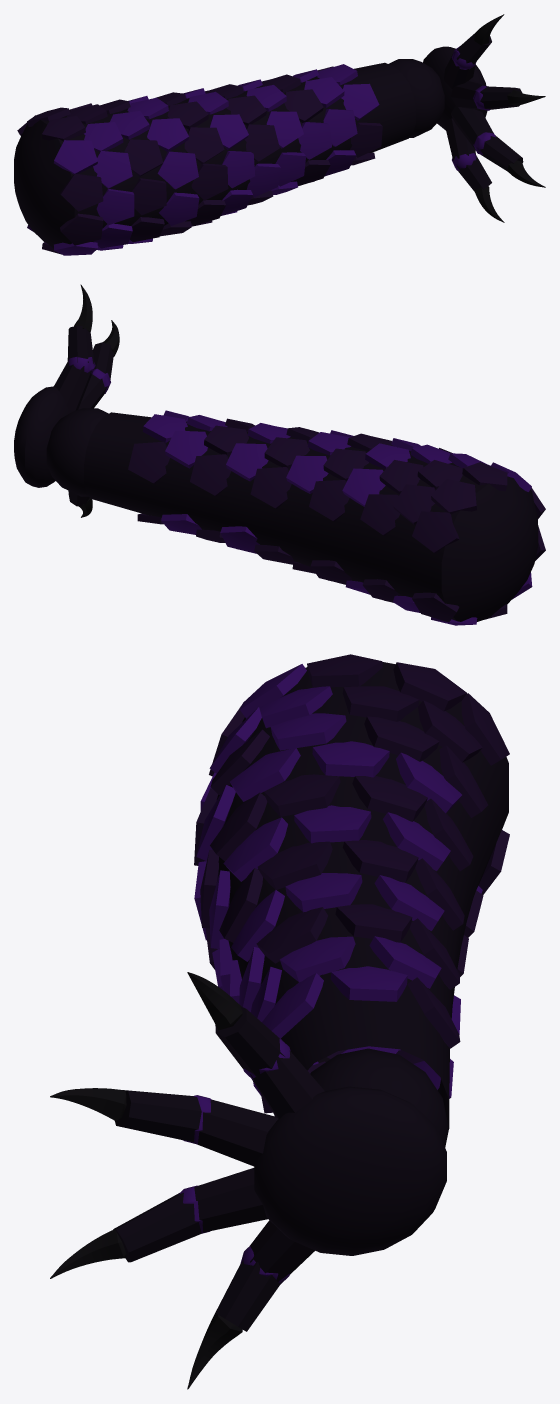
The model's file is tibia.obj.
The picture shows the model from 3 angles, top to bottom: view 1: azimuth 30°, elevation 25°; view 2: azimuth 150°, elevation 25°; view 3: azimuth 270°, elevation 25°; orthographic projection. The views are drawn at different scales.
Visible parts, largest first — view 1: tibia; view 2: tibia; view 3: tibia.
Part boxes in pixels (bbox=[...]): tibia: bbox=[14, 14, 545, 255]; tibia: bbox=[14, 284, 545, 625]; tibia: bbox=[50, 654, 509, 1389].
Bounding box in the file's own units: 0.1415 × 0.0631 × 0.0631.
